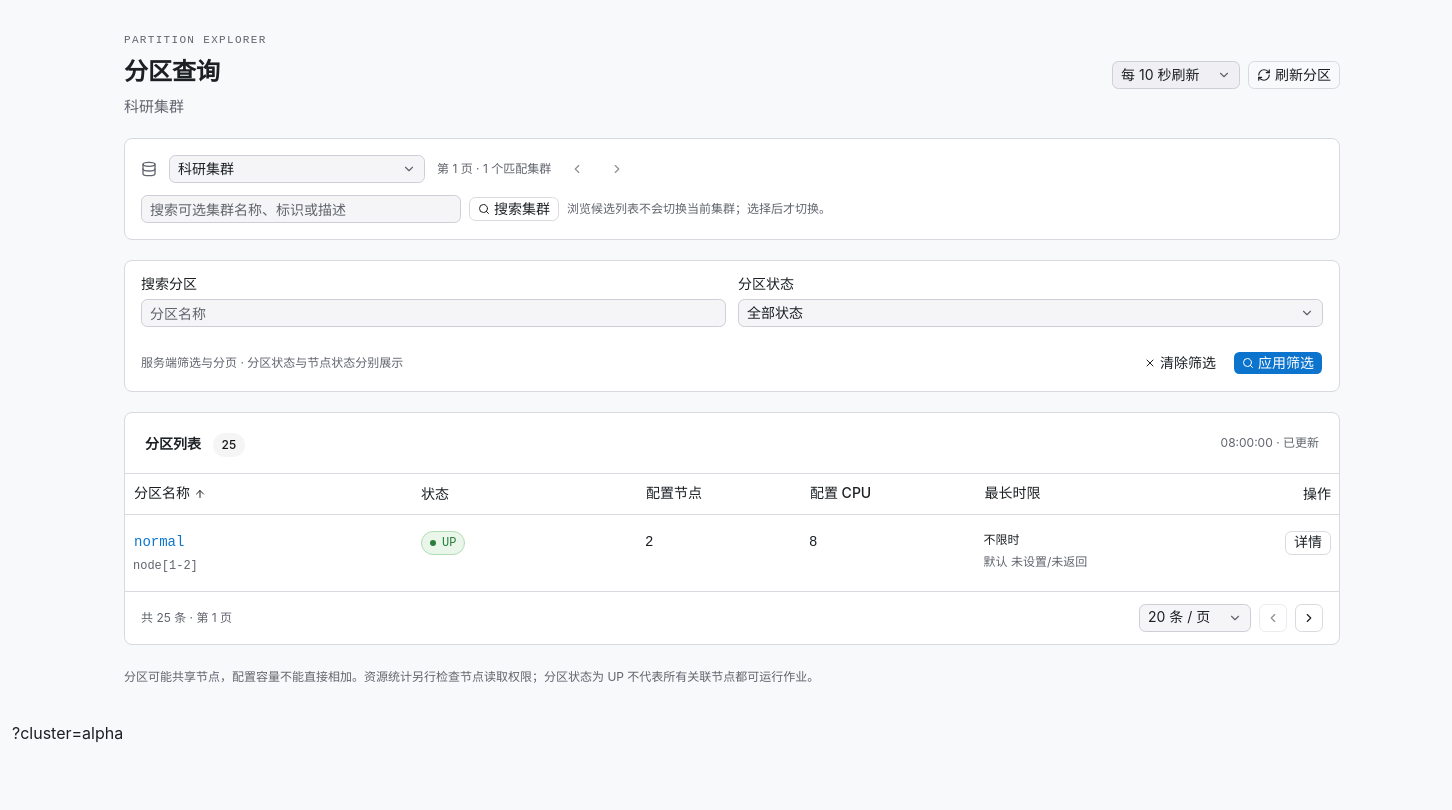
Scenario: 服务端分页、名称筛选和排序同步 URL
The image size is (1452, 810).
Expected: the button "normal" is shown, [133,530,185,552]
Click the button named "下一页分区".
click(1309, 618)  # box [1295,604,1323,632]
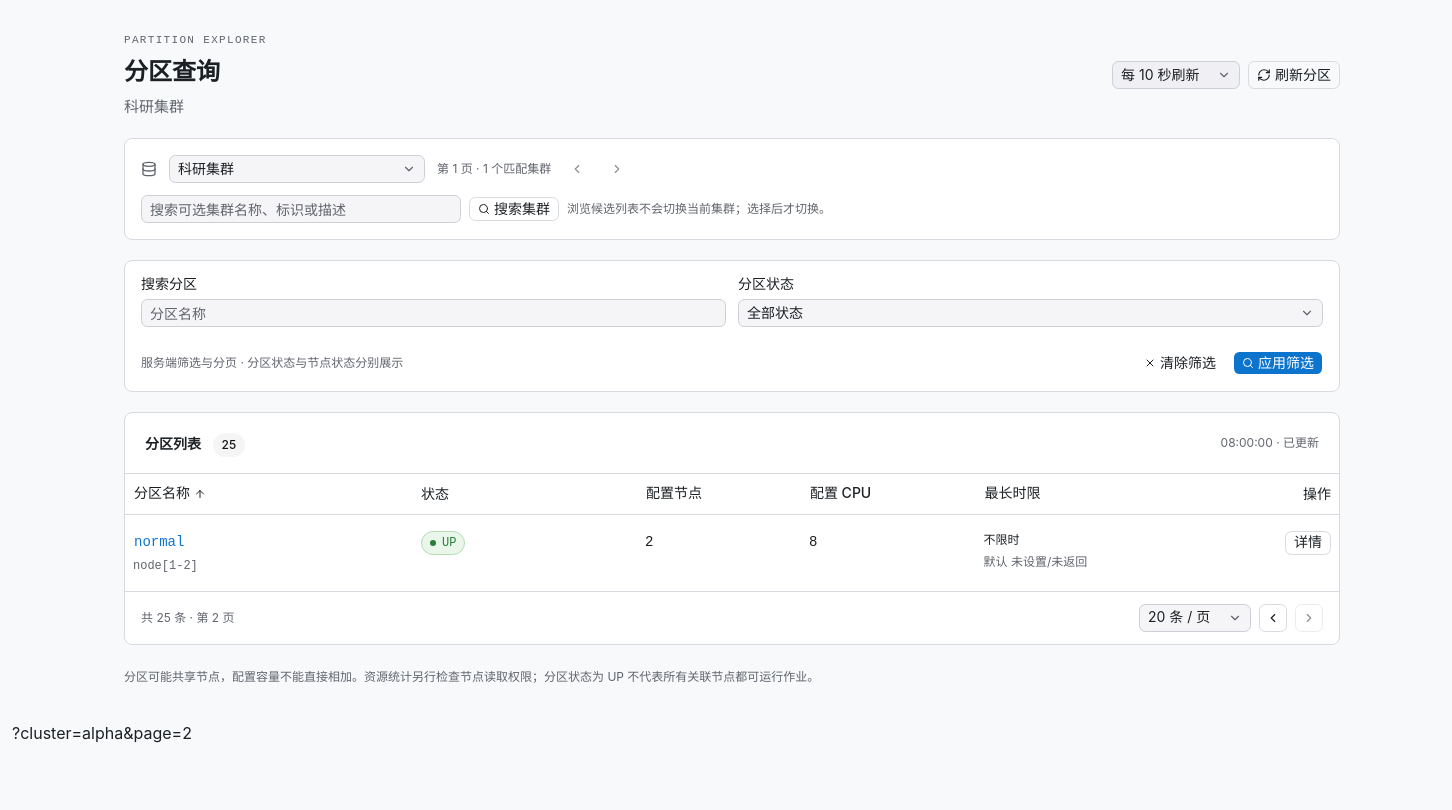
Result: the text named "当前查询" shows "page=2" at [12,722,192,742]
Type "normal" into the field labelled "搜索分区".
click(434, 313); type("normal")  # box [141,299,726,327]
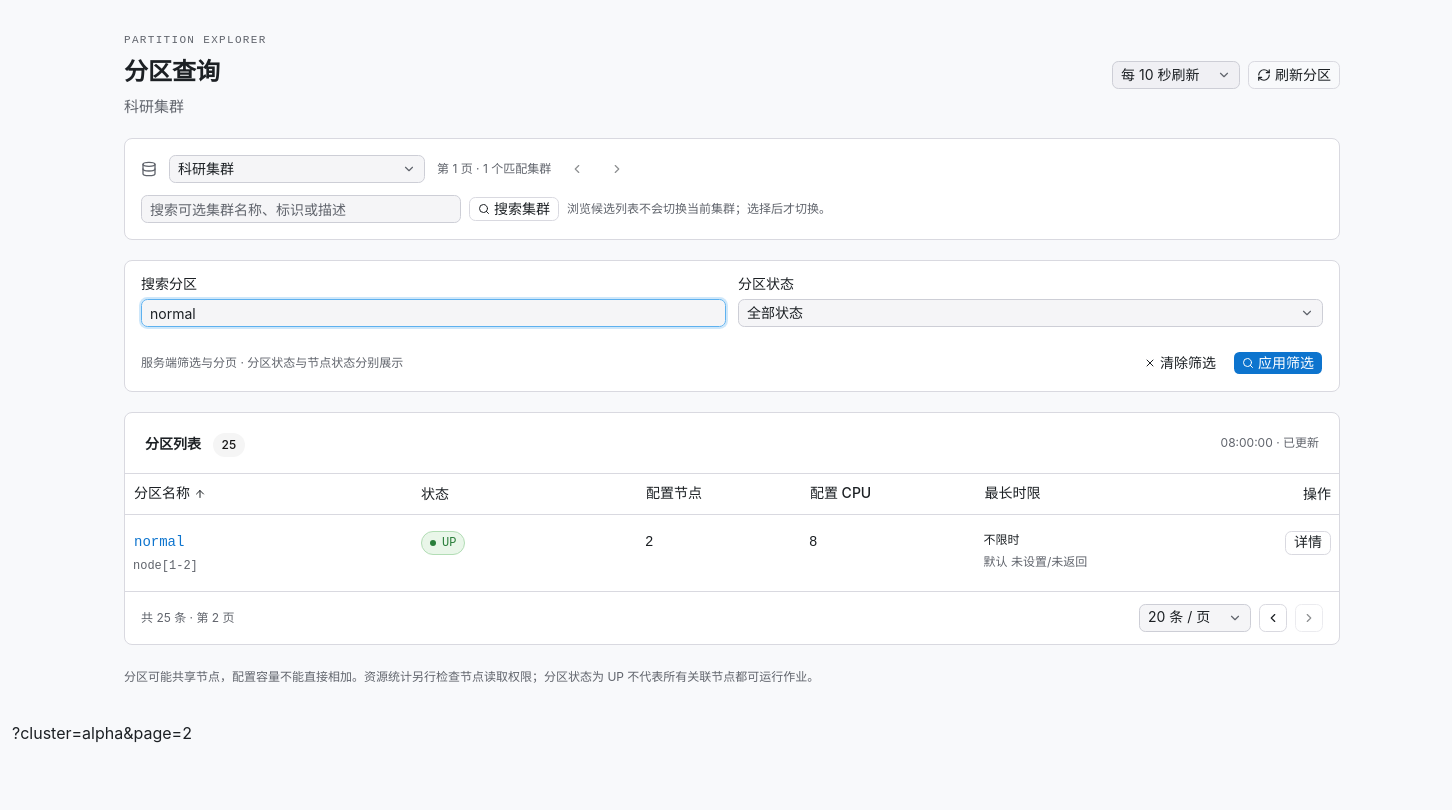
Click the button "应用筛选".
click(1278, 363)  # box [1233,351,1323,375]
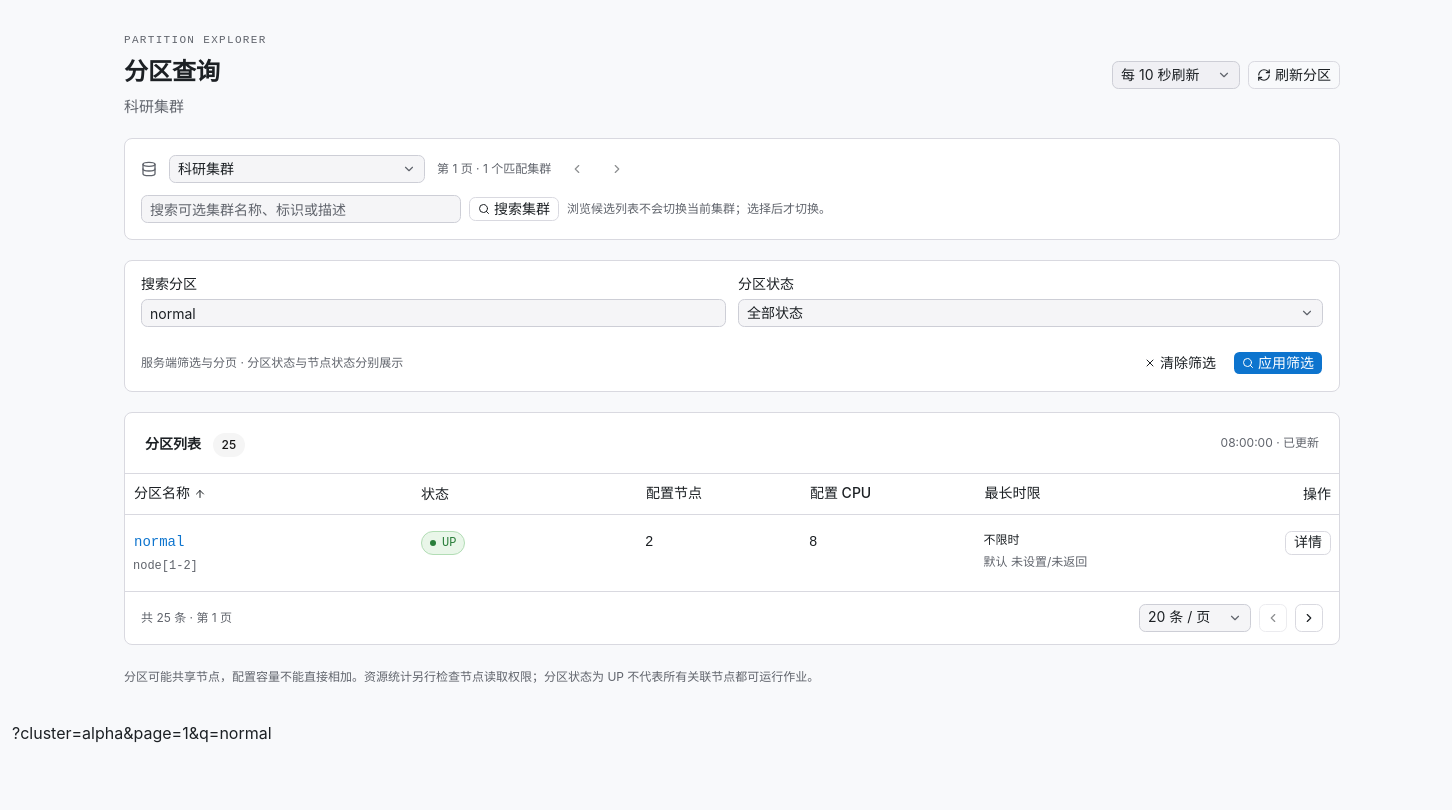
Result: the text named "当前查询" shows "q=normal" at [12,722,272,742]
Result: the text named "当前查询" shows "page=1" at [12,722,272,742]
Click the button with aria-label "按最长时限排序".
click(1013, 494)  # box [976,482,1050,506]
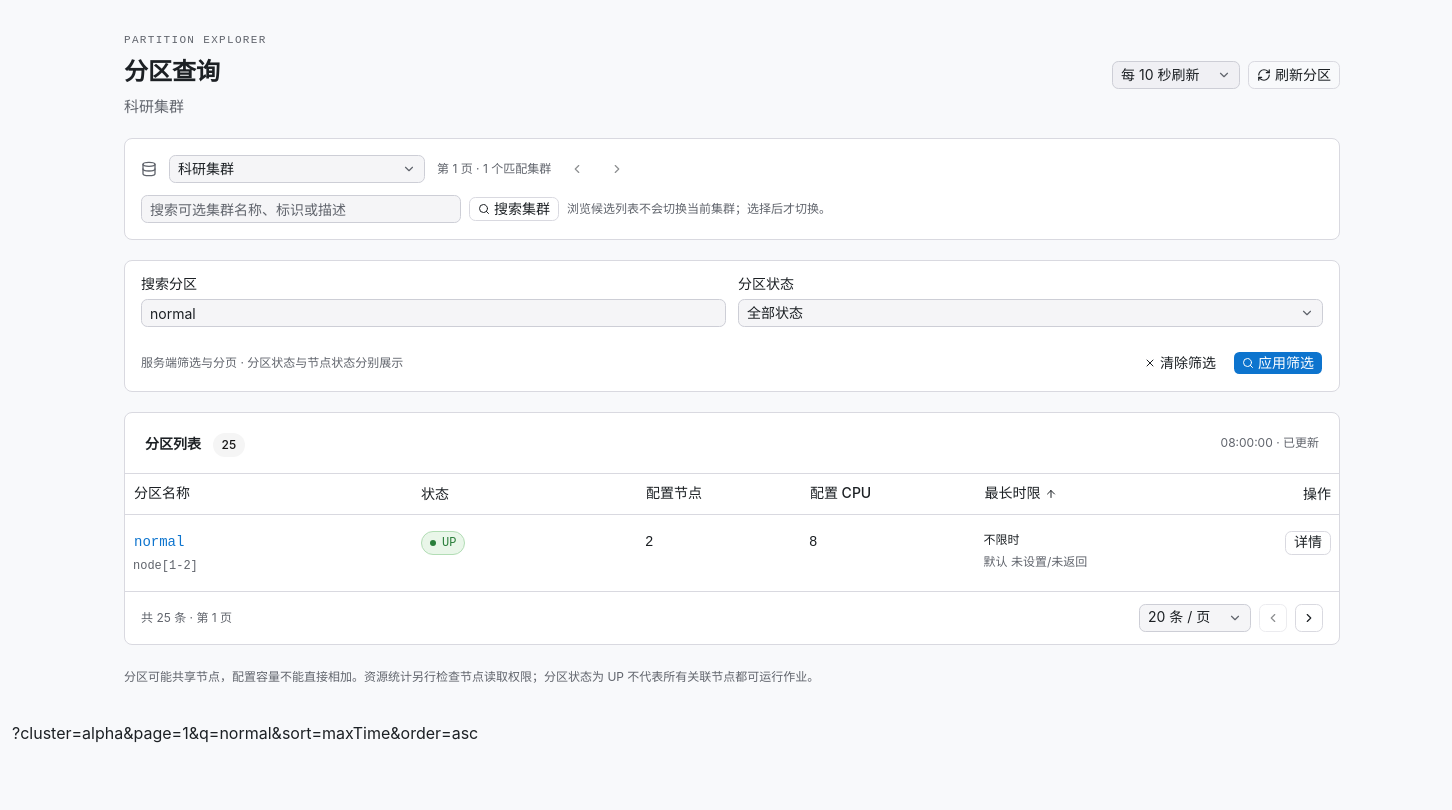
Result: the text named "当前查询" shows "sort=maxTime" at [12,722,478,742]
